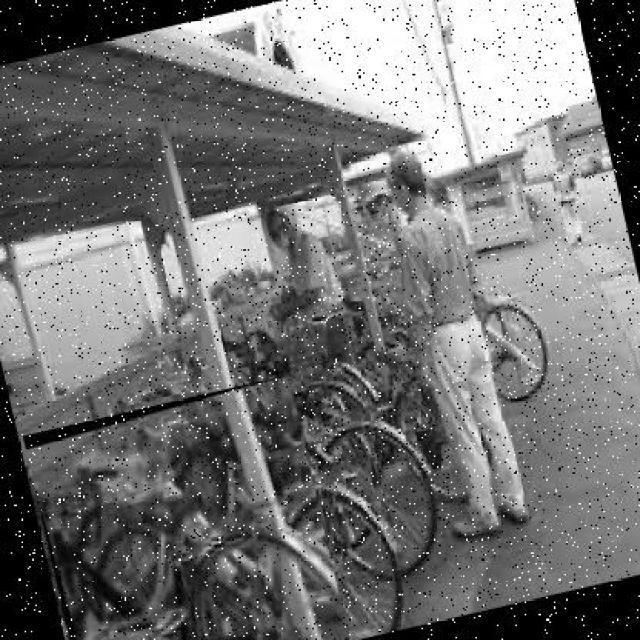bicycle: (23, 377, 352, 640)
